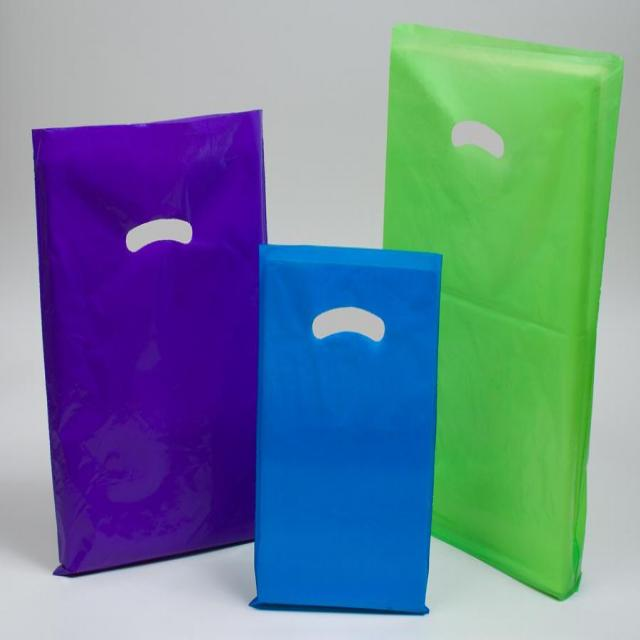plastic_bag: (383, 19, 621, 597), (28, 108, 277, 574), (254, 239, 443, 621)
